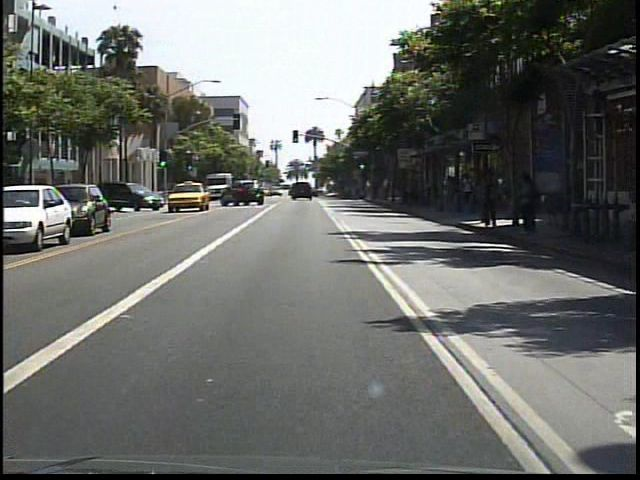person: (475, 164, 502, 233), (515, 172, 540, 242), (460, 170, 477, 212)
